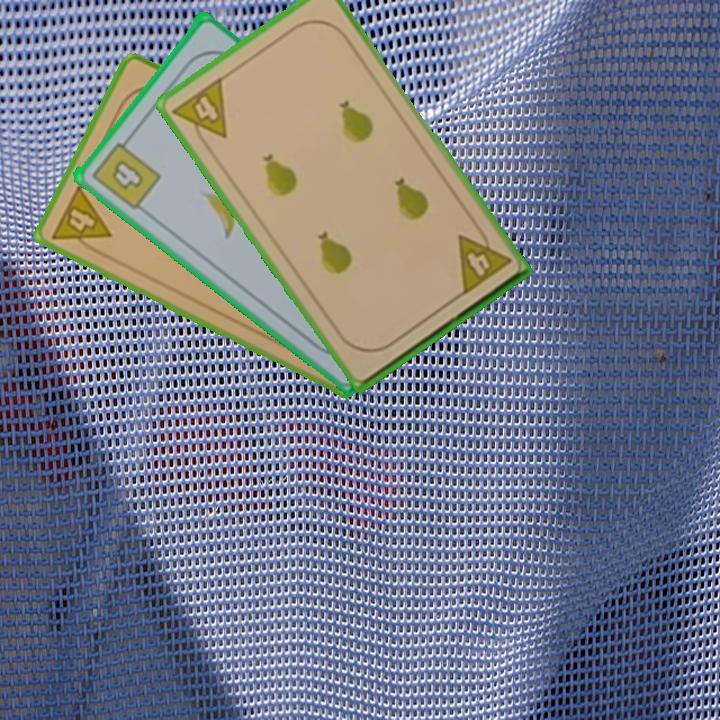4b: (87, 131, 163, 213)
4p: (48, 181, 114, 259), (169, 73, 230, 153), (453, 221, 514, 298)
